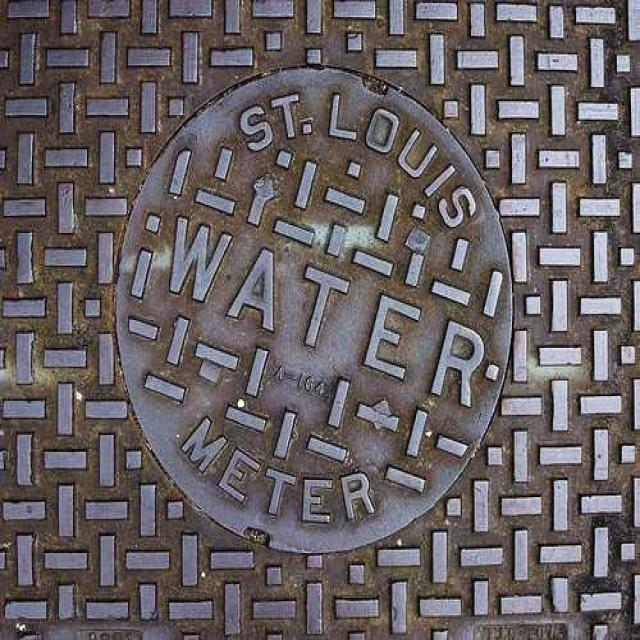manhole: (116, 67, 513, 553)
